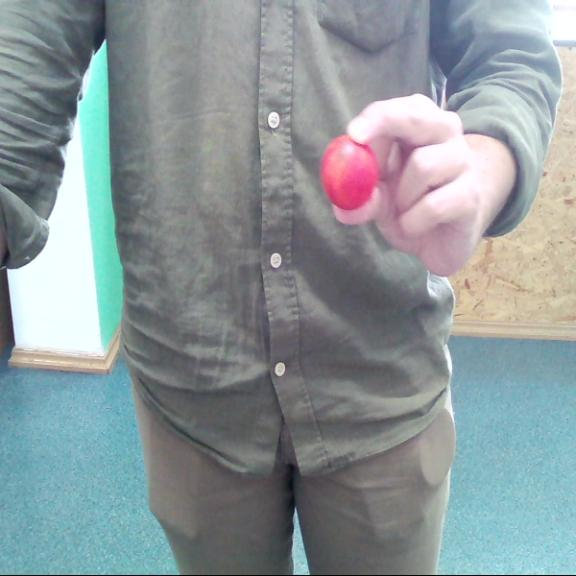ball: (320, 134, 378, 210)
